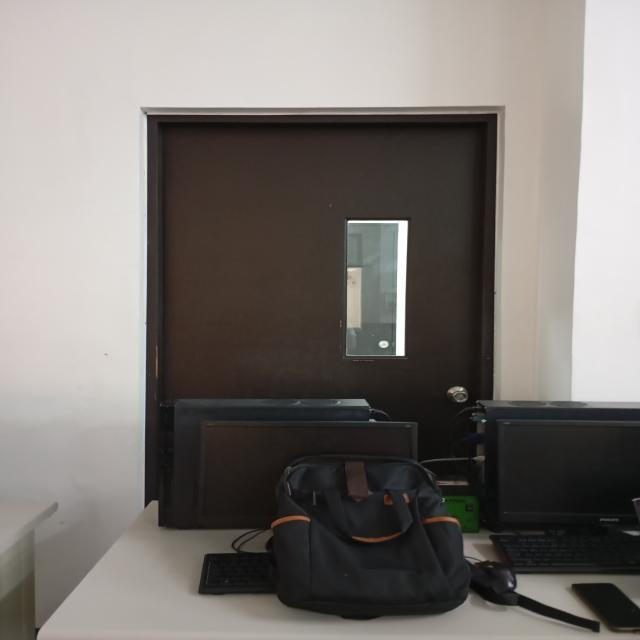door: (125, 90, 517, 538)
